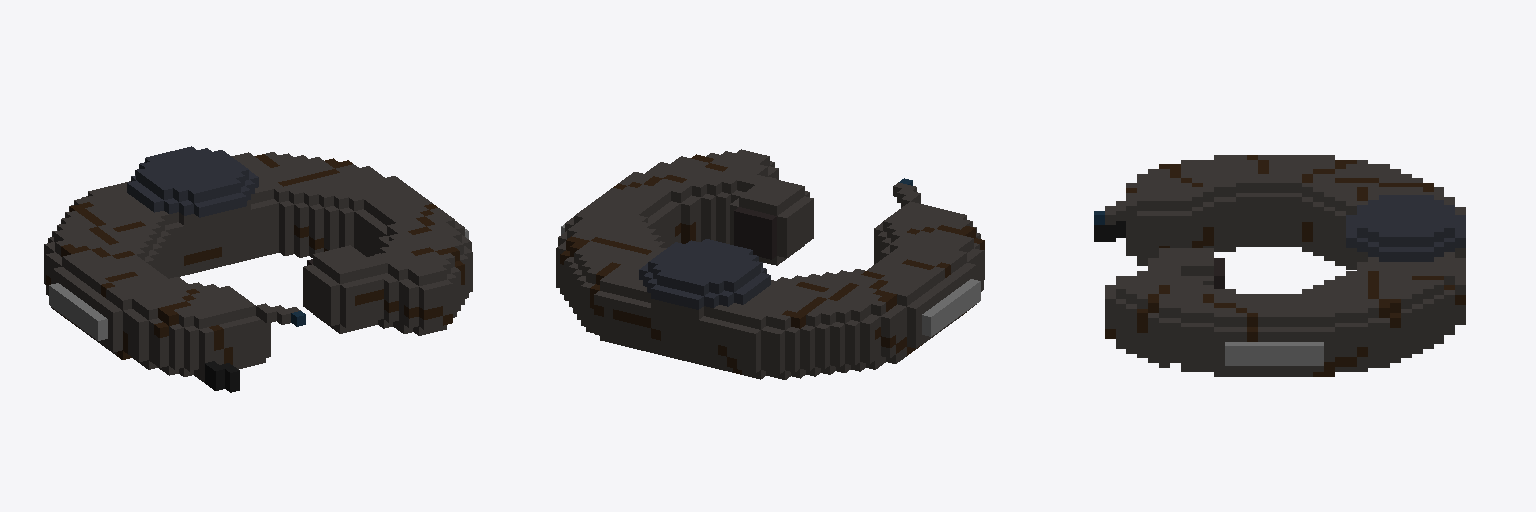
3 renders of one model, left to right at view 1: azimuth 30°, elevation 25°; view 2: azimuth 150°, elevation 25°; view 3: azimuth 270°, elevation 25°, orthographic.
Parts seen in each view (by area): view 1: object 1; view 2: object 1; view 3: object 1.
Part boxes in pixels (x1,y1,x2,y2): object 1: (44, 146, 472, 392); object 1: (556, 149, 984, 379); object 1: (1094, 155, 1465, 376).
Bounding box in the file's own units: 3.9 × 0.8 × 3.4.
Materials: 1 (1 with a texture image).